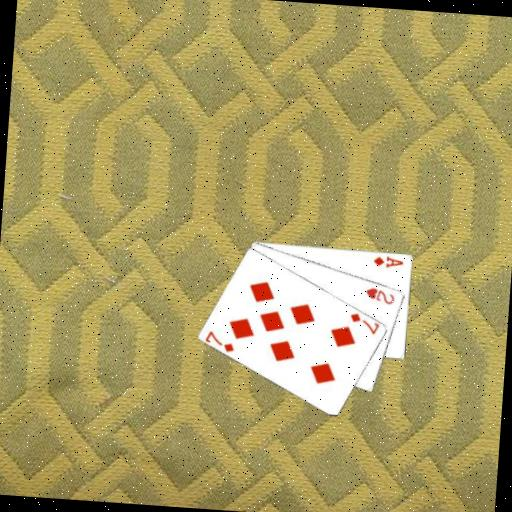2H: (362, 283, 397, 306)
7D: (346, 310, 381, 336), (203, 328, 238, 354)
AD: (370, 252, 405, 270)
